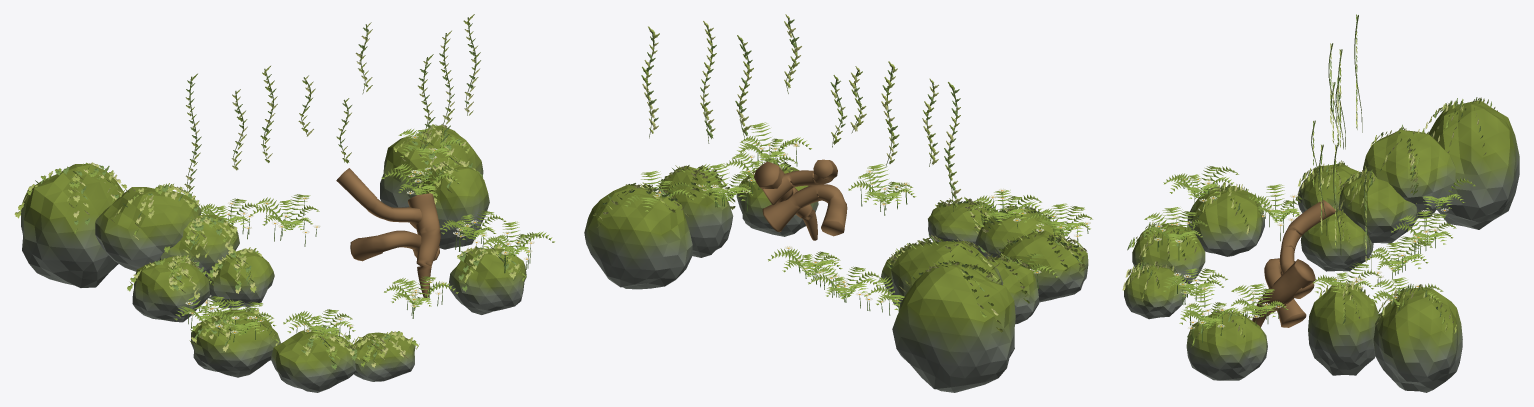
The model's file is glade-garden.glb.
3 renders of one model, left to right at view 1: azimuth 30°, elevation 25°; view 2: azimuth 150°, elevation 25°; view 3: azimuth 270°, elevation 25°, orthographic. The views are drawn at different scales.
Parts seen in each view (by area): view 1: Cascade_Moss_Boulders, Hanging_And_Rock_Ivy, Reference_Ferns, Embracing_Roots, Wild_Daisies, Ivy_Stems, Wildflower_Stems; view 2: Cascade_Moss_Boulders, Reference_Ferns, Hanging_And_Rock_Ivy, Embracing_Roots, Wild_Daisies, Ivy_Stems, Wildflower_Stems; view 3: Cascade_Moss_Boulders, Reference_Ferns, Hanging_And_Rock_Ivy, Embracing_Roots, Wild_Daisies, Ivy_Stems, Wildflower_Stems.
Boxes of the visible parts, x1,y1,x2,y2 form: Cascade_Moss_Boulders: [20, 125, 526, 392]; Hanging_And_Rock_Ivy: [14, 14, 526, 369]; Reference_Ferns: [174, 129, 554, 339]; Embracing_Roots: [336, 168, 440, 297]; Wild_Daisies: [185, 135, 534, 333]; Ivy_Stems: [186, 17, 476, 192]; Wildflower_Stems: [188, 139, 530, 342]; Cascade_Moss_Boulders: [584, 165, 1088, 392]; Reference_Ferns: [624, 122, 1092, 310]; Hanging_And_Rock_Ivy: [593, 14, 1086, 332]; Embracing_Roots: [754, 159, 847, 240]; Wild_Daisies: [653, 141, 1090, 302]; Ivy_Stems: [646, 17, 957, 211]; Wildflower_Stems: [657, 146, 1088, 315]; Cascade_Moss_Boulders: [1124, 100, 1519, 392]; Reference_Ferns: [1143, 166, 1475, 328]; Hanging_And_Rock_Ivy: [1122, 14, 1497, 347]; Embracing_Roots: [1252, 200, 1336, 327]; Wild_Daisies: [1154, 177, 1448, 329]; Ivy_Stems: [1311, 15, 1371, 269]; Wildflower_Stems: [1157, 182, 1444, 342].
Bounding box in the file's own units: 10.72 × 6.49 × 8.47.
